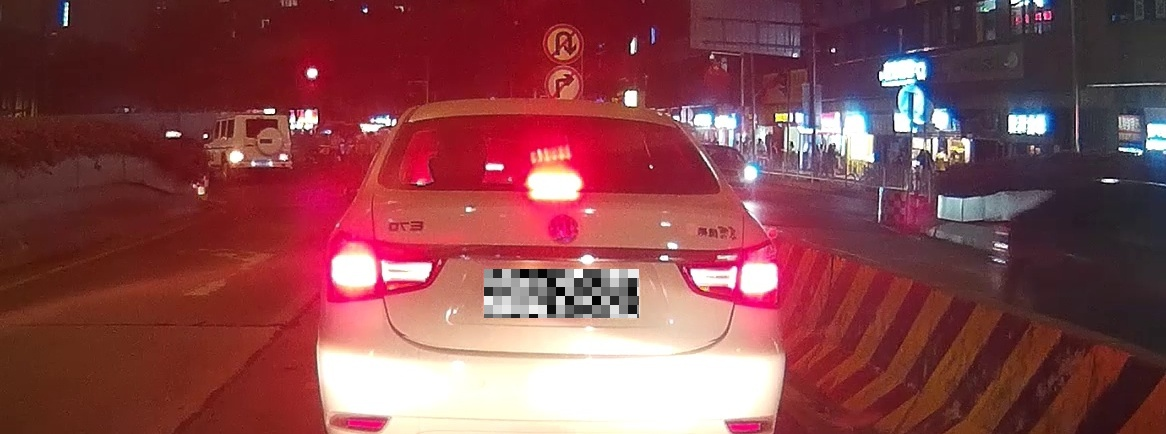L_light: (321, 229, 449, 303), (230, 151, 244, 163)
R_light: (674, 239, 783, 310), (278, 153, 288, 161)
T_light: (525, 173, 583, 190), (258, 119, 267, 120)
night-brake: (316, 97, 784, 434)
night-left: (230, 115, 292, 182)
plate_1: (484, 269, 639, 318)
